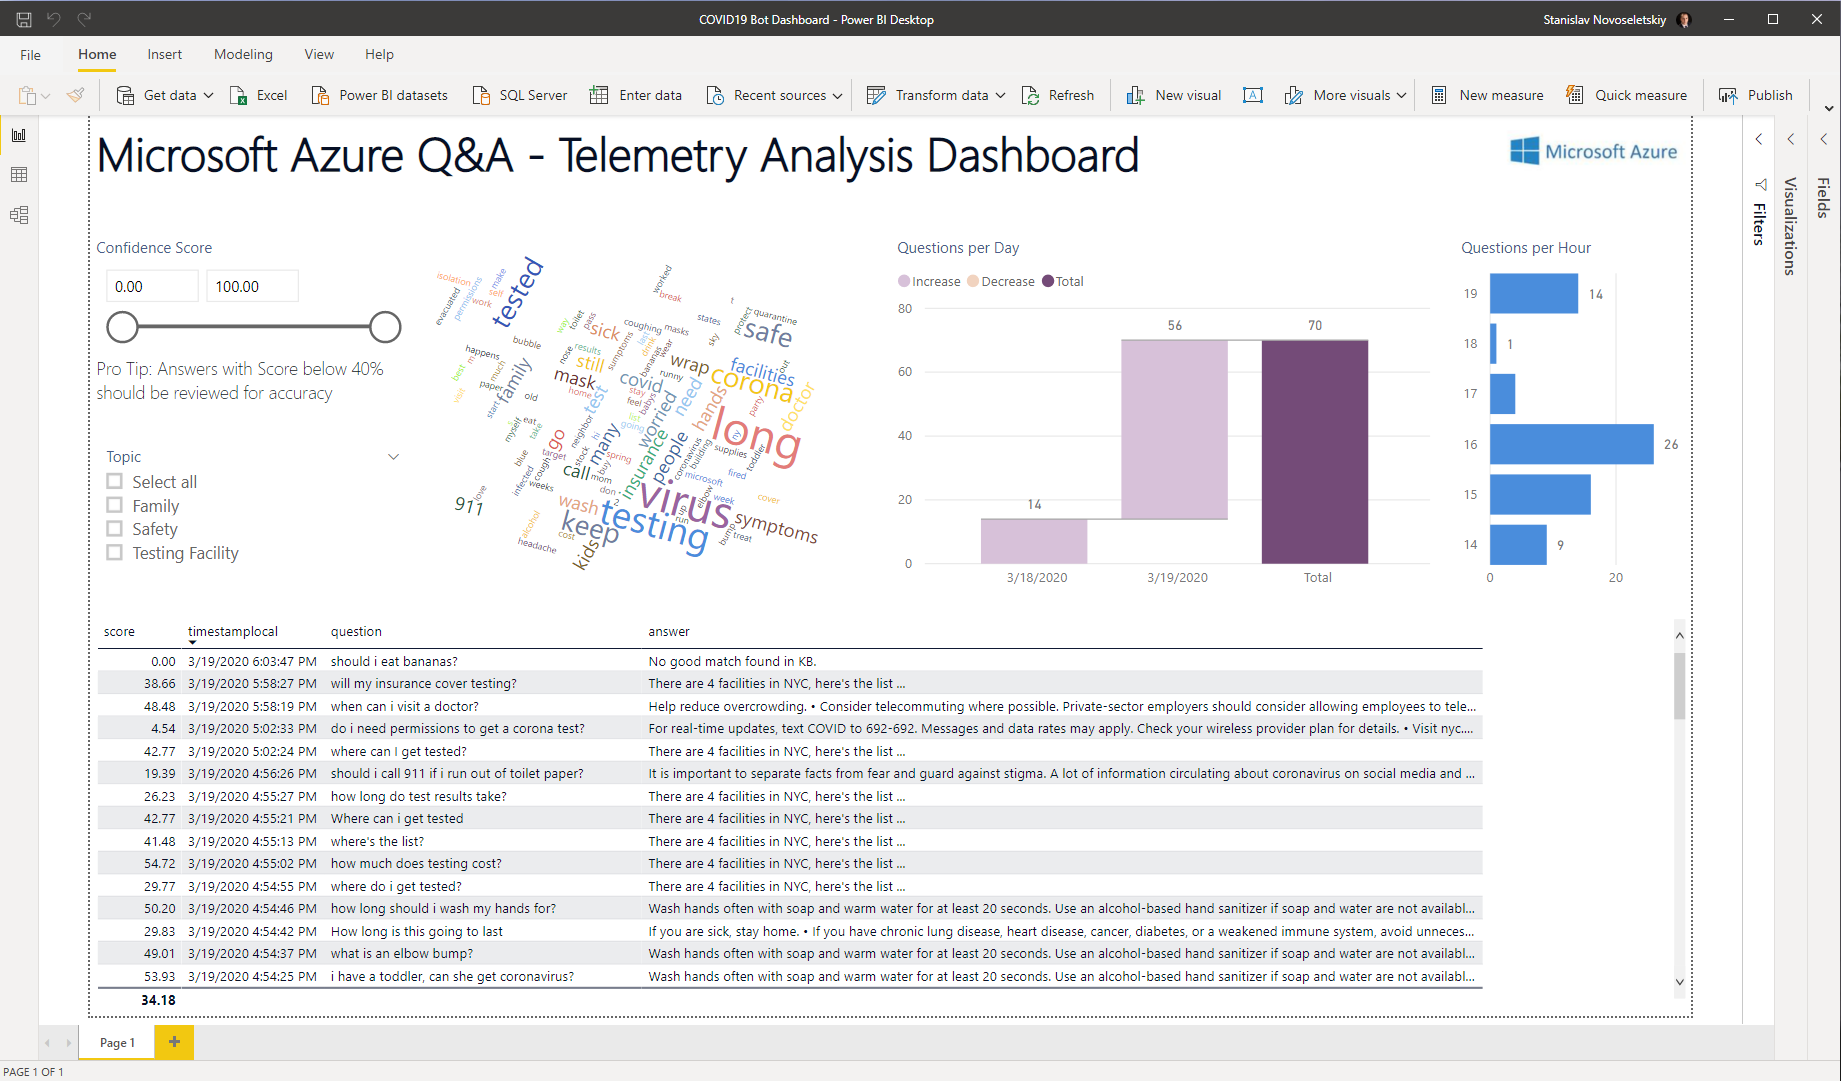

The dashboard page shown, as its layout file describes it:
{"tool":"powerbi","page":{"name":"Page 1","canvas":[1280,720],"ordinal":0},"visuals":[{"type":"slicer","fields":{"Values":["Answered Questions - Topics.Topic"]},"box":[0,258.7,260.2,138.7],"z":0},{"type":"tableEx","fields":{"Values":["Avg(Answers.score)","Answers.timestamplocal","Answers.question","Answers.answer"]},"box":[0,397.6,1280.2,322.4],"z":1000},{"type":"WordCloud1447959067750","fields":{"Category":["Answers.question"]},"box":[259.9,97.3,380.6,300.4],"z":2000},{"type":"barChart","title":"Questions per Hour","fields":{"Y":["Answers.Questions"],"Category":["Answers.timestamplocal - time"]},"box":[1087.4,97.2,192.6,300.3],"z":3000},{"type":"waterfallChart","title":"Questions per Day","fields":{"Category":["Answers.timestamplocal - date"],"Y":["Answers.Questions"]},"box":[640.6,97.2,435.7,300.3],"z":4000},{"type":"slicer","title":"Confidence Score","fields":{"Values":["Answers.score"]},"box":[0,97.3,259.9,101.5],"z":5000},{"type":"textbox","box":[0,0,987,64.6],"z":6000},{"type":"image","box":[1117.5,0,155.1,57.2],"z":7000},{"type":"textbox","box":[6.8,187.7,253.5,59.7],"z":8000}]}

Visuals, with their boxes on the page's 1280x720 design canvas (x1, y1, x2, y2). These are canvas units, not pixel positions in the 1841x1081 screenshot, which may show the page scaled, cropped or inside an application window:
slicer - Answered Questions - Topics.Topic: 0/259/260/397
tableEx - Avg(Answers.score) x Answers.timestamplocal: 0/398/1280/720
WordCloud1447959067750 - Answers.question: 260/97/640/398
"Questions per Hour" barChart: 1087/97/1280/398
"Questions per Day" waterfallChart: 641/97/1076/398
"Confidence Score" slicer: 0/97/260/199
textbox: 0/0/987/65
image: 1118/0/1273/57
textbox: 7/188/260/247
